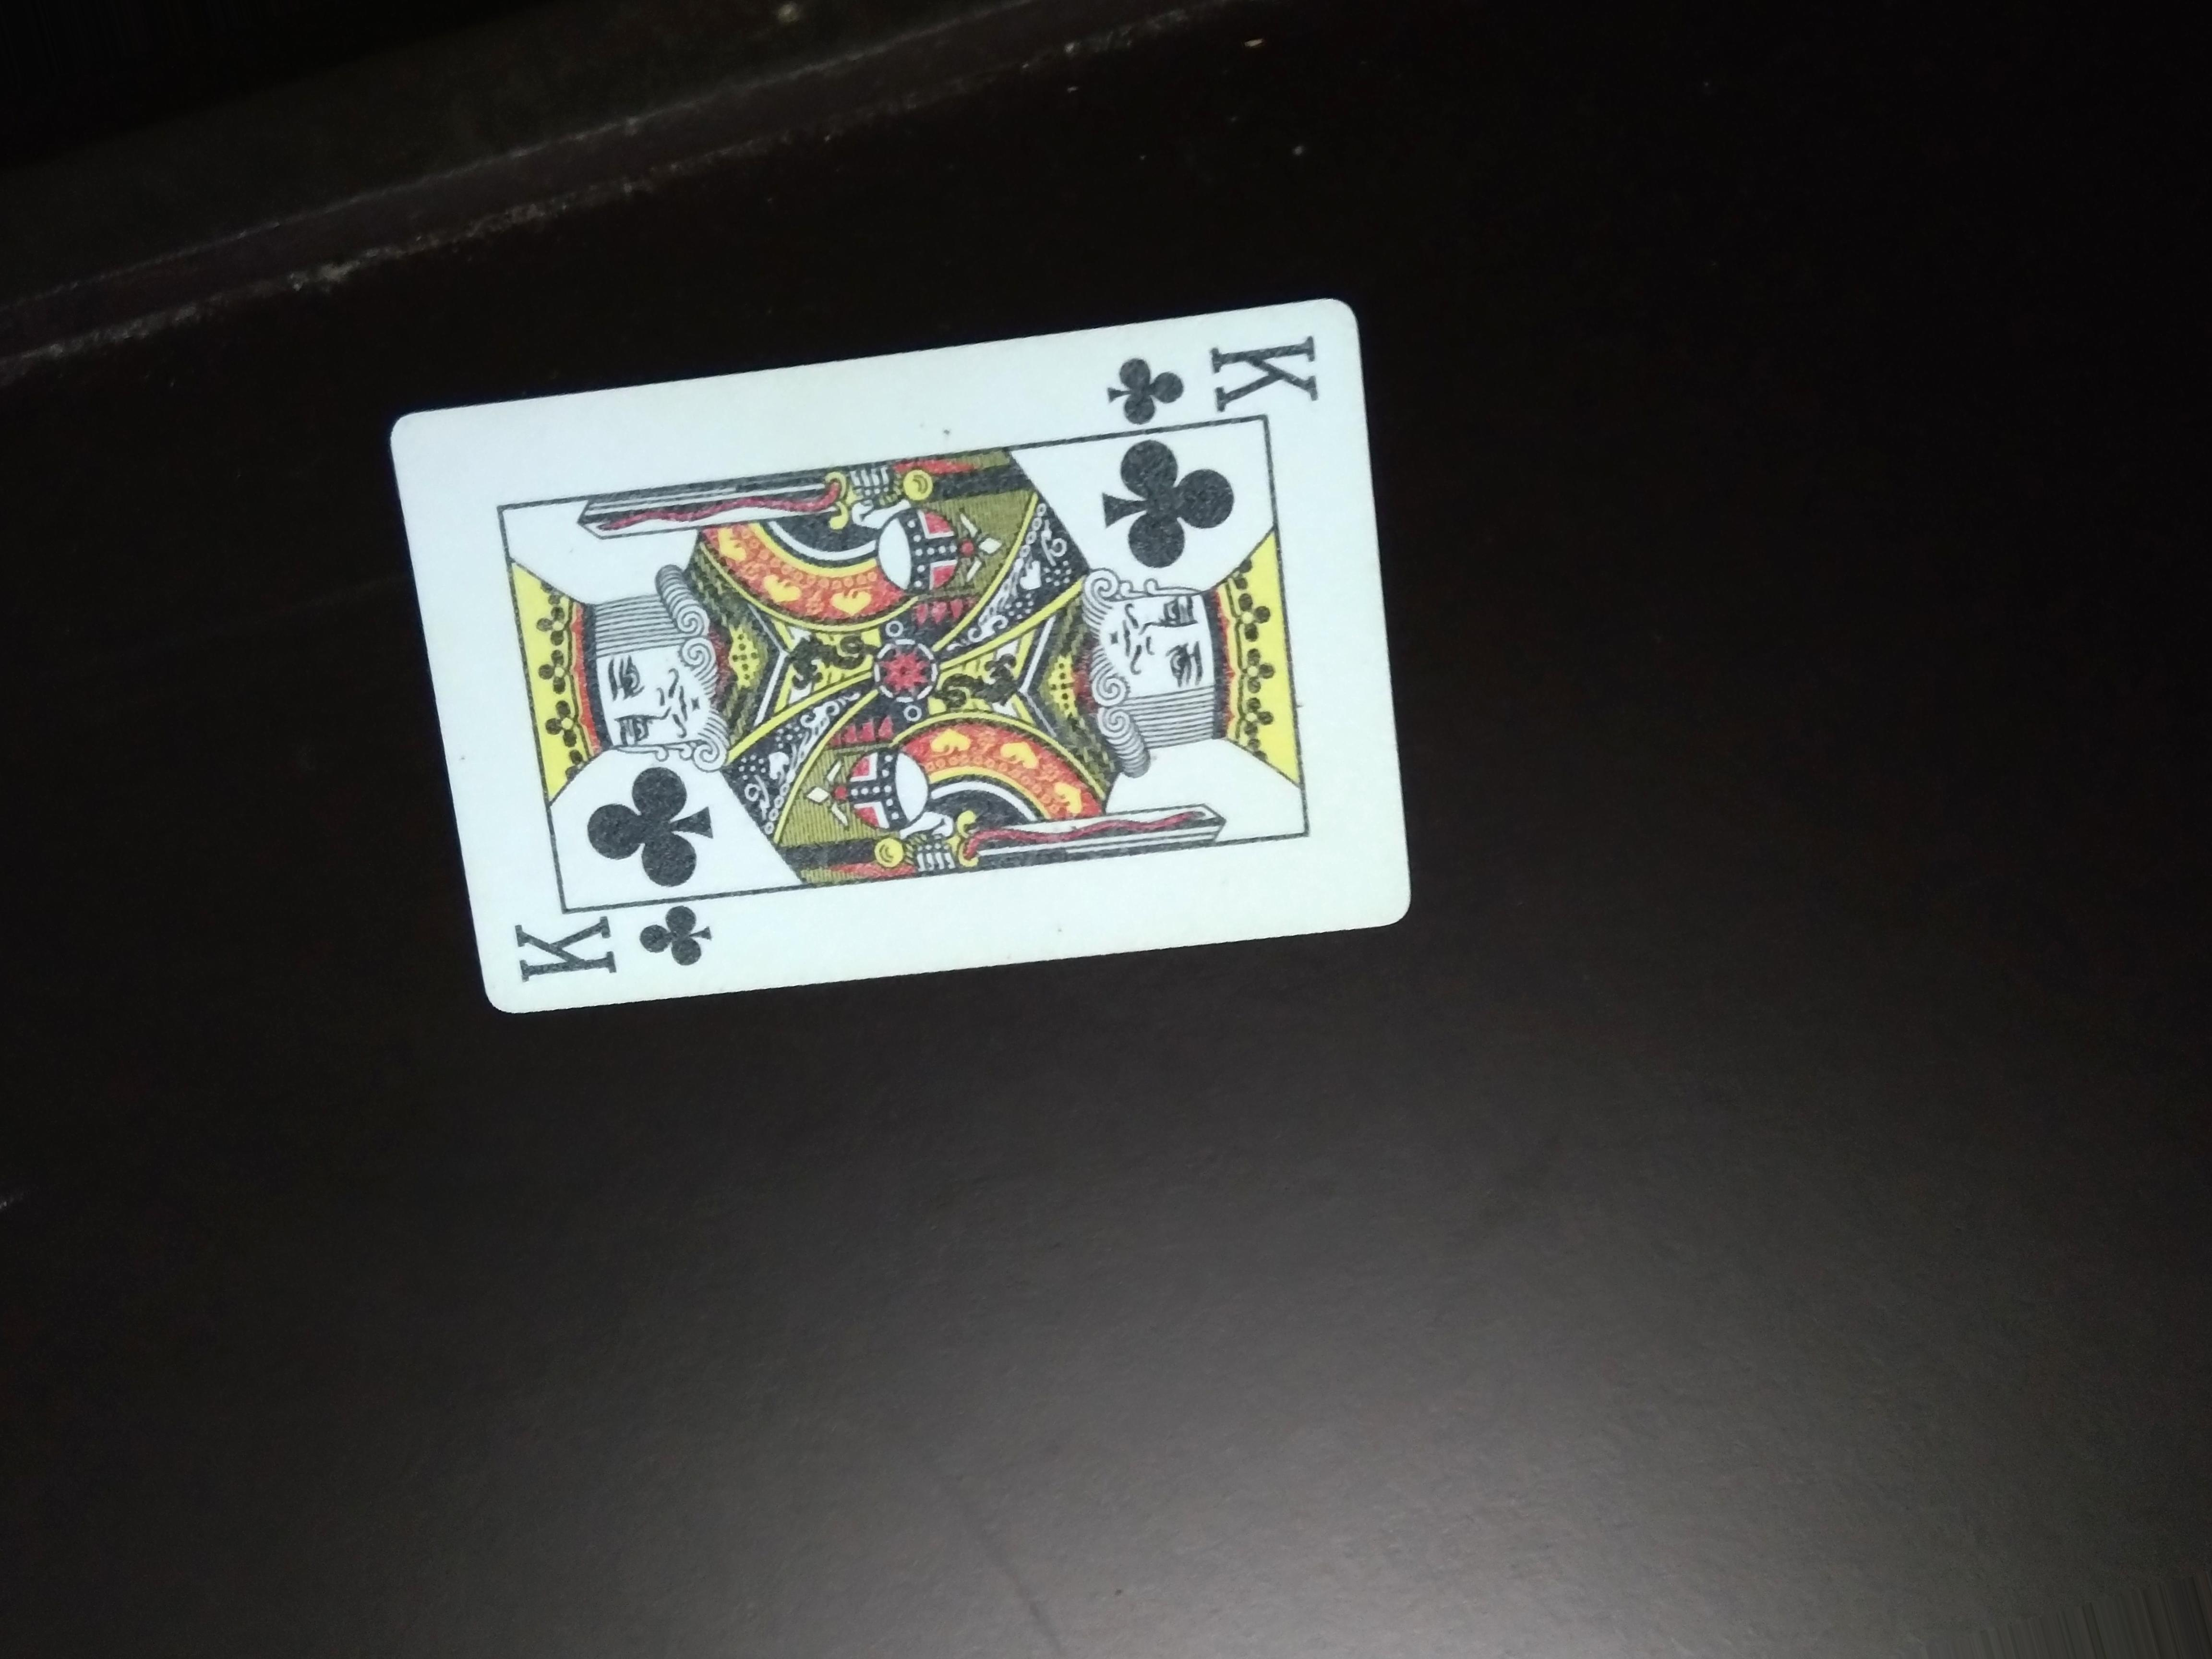KC: (1089, 324, 1336, 430)
